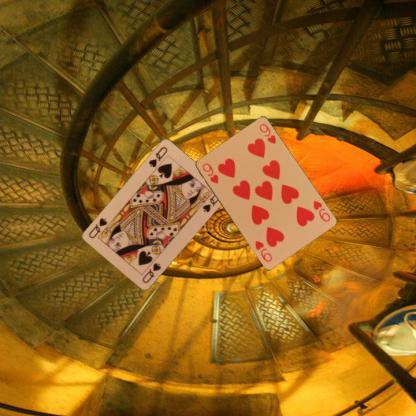9h: (310, 198, 331, 223), (200, 160, 220, 185)
Qs: (140, 260, 162, 285), (146, 144, 168, 169)
